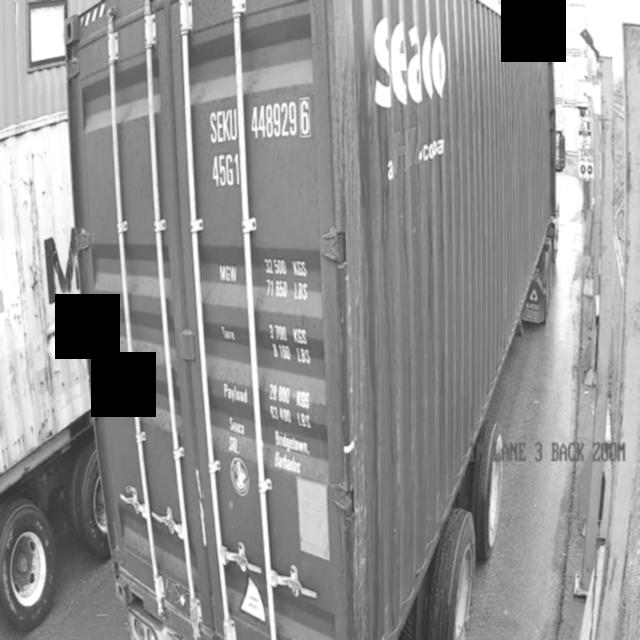container_number: (206, 92, 318, 187)
other_container_info: (208, 247, 331, 478), (372, 15, 454, 111)
truck_with_container: (42, 0, 557, 640)
